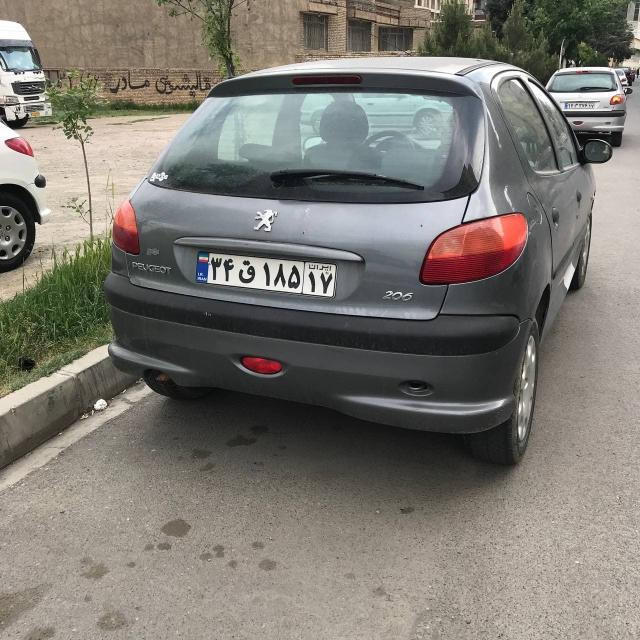Plates: (194, 252, 337, 298)
